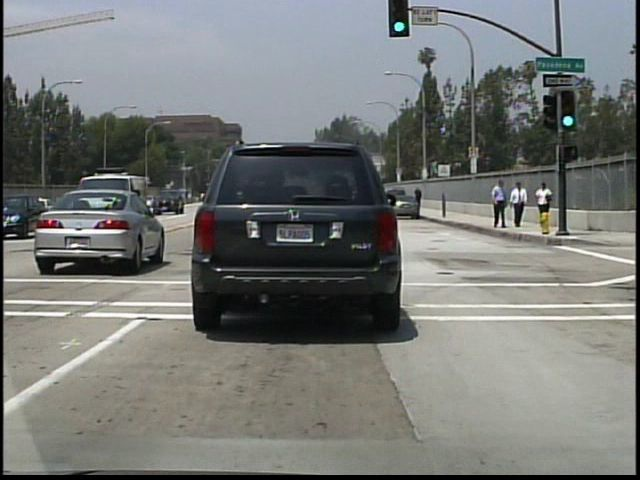person: (489, 178, 509, 234), (509, 179, 529, 228), (534, 180, 554, 211), (413, 187, 424, 210)
